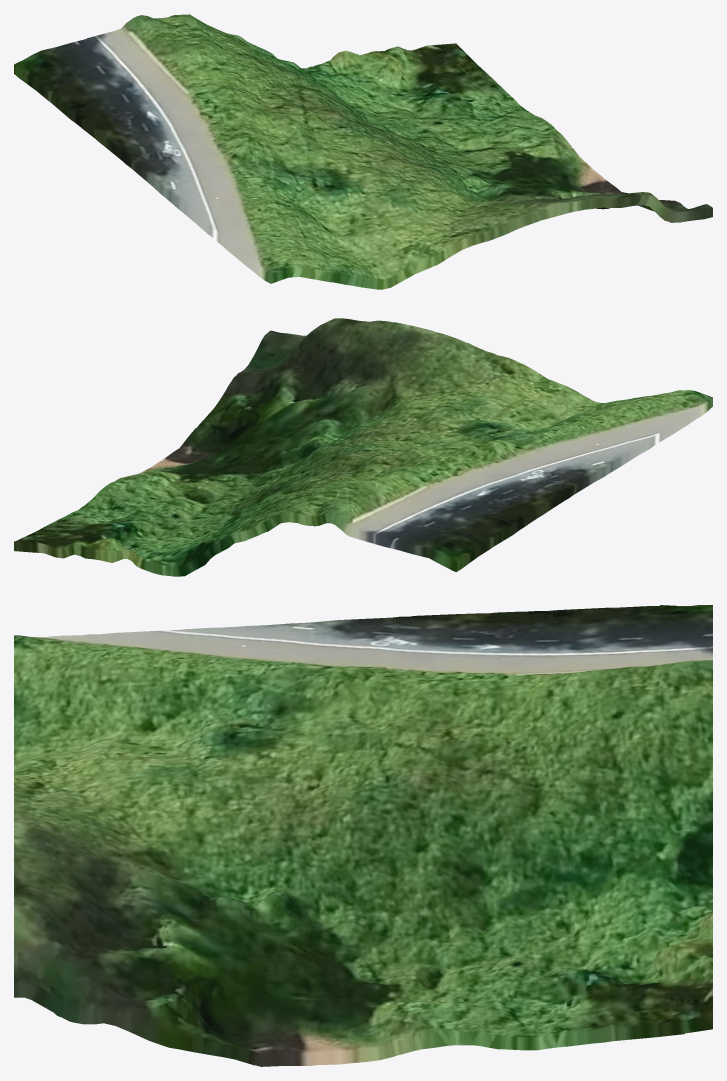
File: z20-167554-405173-h0-yup-uvflip-v3-world.glb
The picture shows the model from 3 angles, top to bottom: view 1: azimuth 30°, elevation 25°; view 2: azimuth 150°, elevation 25°; view 3: azimuth 270°, elevation 25°; orthographic projection. The views are drawn at different scales.
Size of the model in its own units: 30.16 by 9.28 by 30.32.
Materials: 1 (1 with a texture image).
